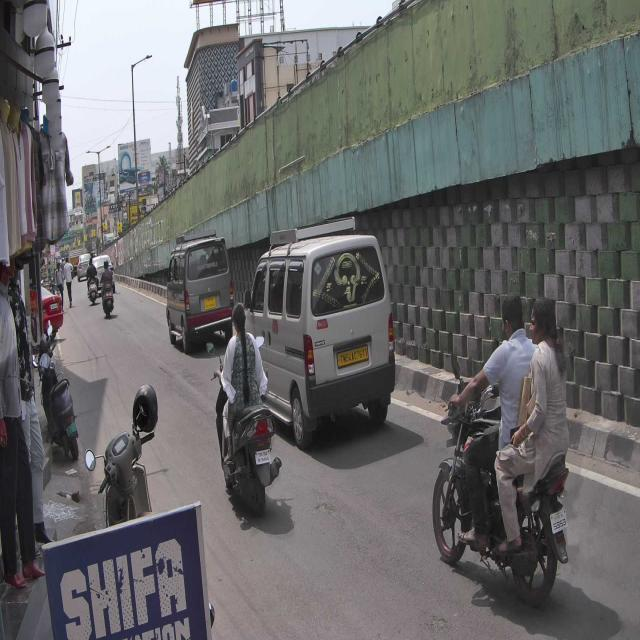double_rider: (432, 290, 570, 608)
single_rider: (210, 298, 282, 518)
